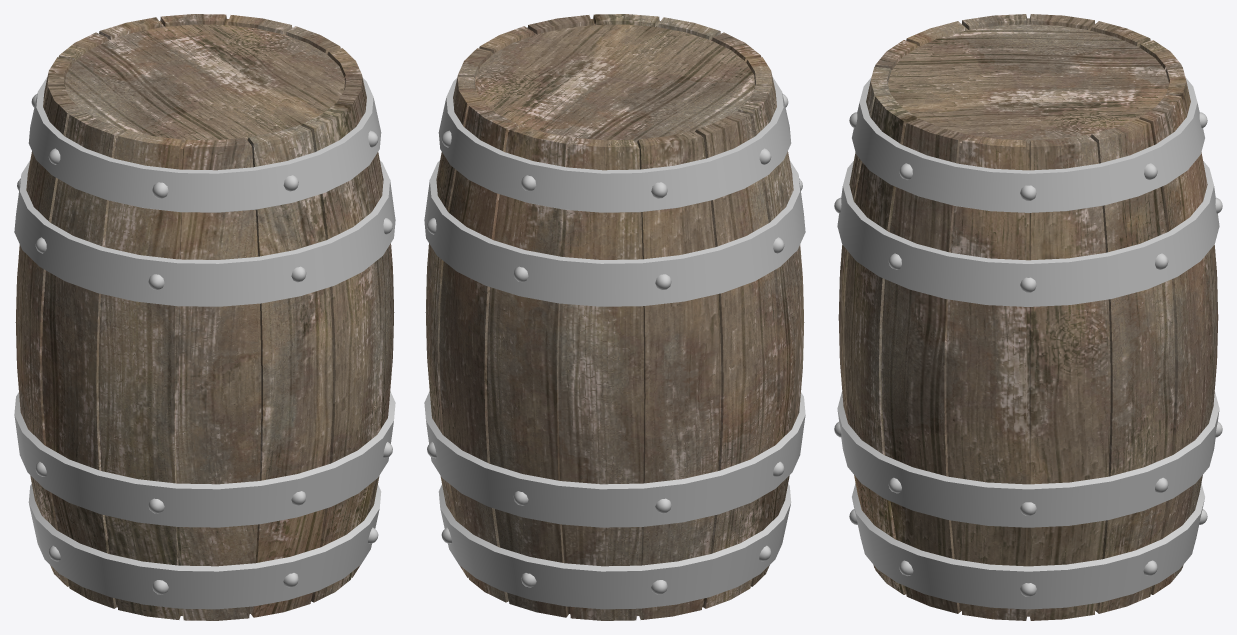
The model's file is SM_Barrel_01.fbx.
3 views of the same model, side by side, from view 1: azimuth 30°, elevation 25°; view 2: azimuth 150°, elevation 25°; view 3: azimuth 270°, elevation 25° (orthographic).
Parts seen in each view (by area): view 1: SM_Barrel_01_LOD0; view 2: SM_Barrel_01_LOD0; view 3: SM_Barrel_01_LOD0.
Part boxes in pixels (x1,y1,x2,y2): SM_Barrel_01_LOD0: (14, 14, 395, 620); SM_Barrel_01_LOD0: (424, 14, 805, 620); SM_Barrel_01_LOD0: (834, 14, 1222, 620).
Bounding box in the file's own units: 54.32 × 54.32 × 73.08.
